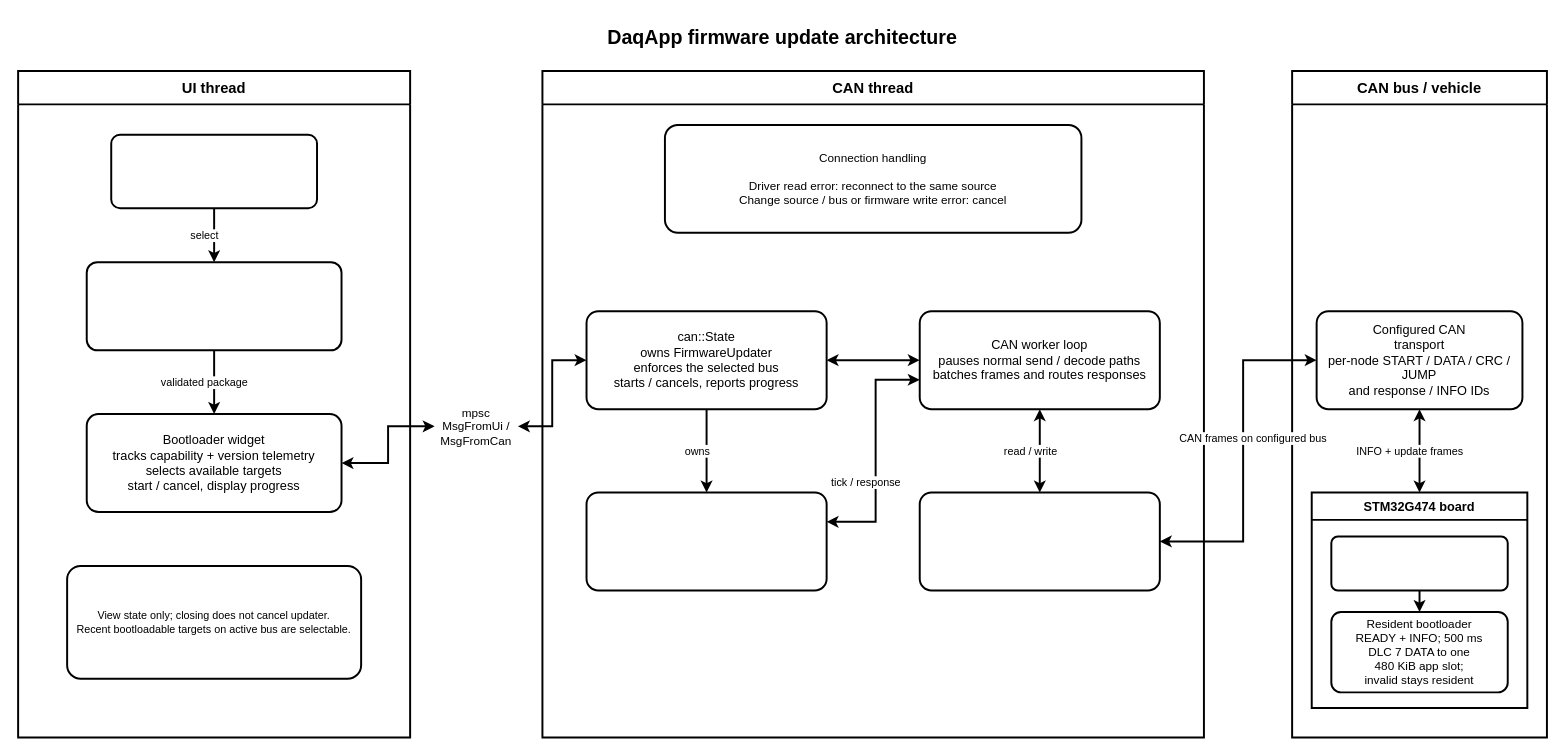
This 1564x755 diagram has some shape labels left out. Here are the shapes that lost their labels. From the top down, the centre of each, then its label:
At [214,171]: "Firmware package manifest + application images".
At [213,306]: "FirmwarePackage::load validate paths, IDs, bus, address, size and CRC".
At [706,541]: "FirmwareUpdater one selected board at a time retries, sequencing and progress".
At [1039,541]: "CAN driver SLCAN / UDP read_frames() / write_frame()".
At [1419,563]: "Application START callback calls NVIC_SystemReset()".
